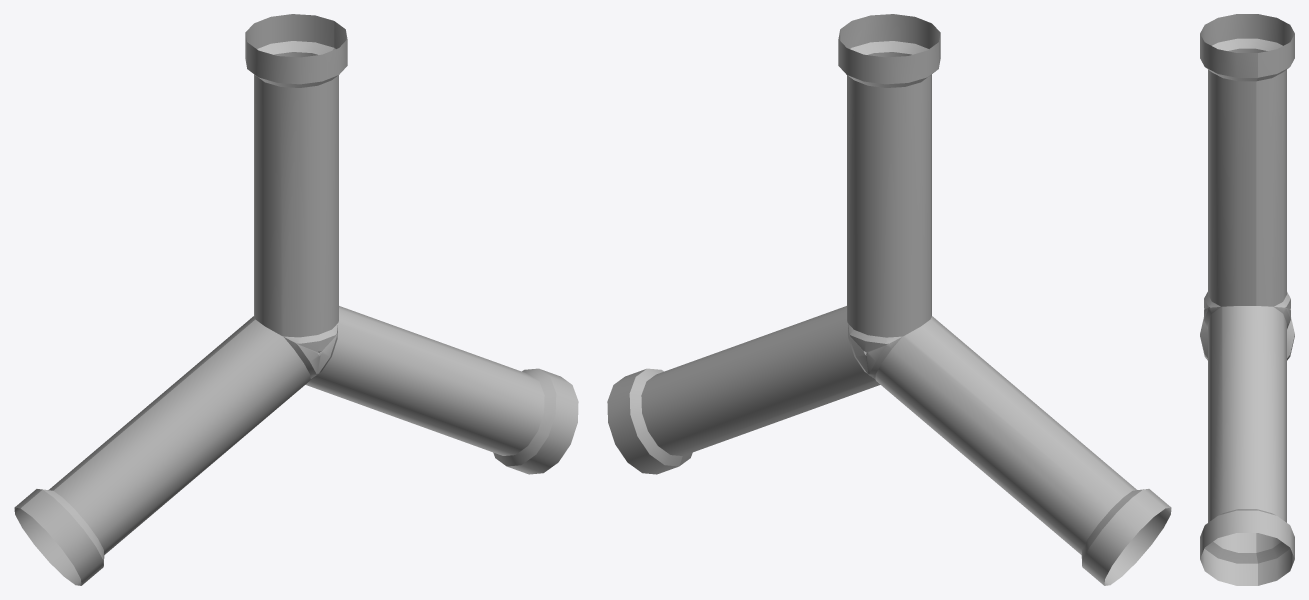
File: KF_SM_Llong3way.fbx
3 views of the same model, side by side, from view 1: azimuth 30°, elevation 25°; view 2: azimuth 150°, elevation 25°; view 3: azimuth 270°, elevation 25° (orthographic). The views are drawn at different scales.
Visible parts, largest first — view 1: KF_SM_Llong3way; view 2: KF_SM_Llong3way; view 3: KF_SM_Llong3way.
Part boxes in pixels (x1,y1,x2,y2): KF_SM_Llong3way: (14, 14, 578, 585); KF_SM_Llong3way: (607, 14, 1171, 585); KF_SM_Llong3way: (1200, 14, 1294, 585).
Size of the model in its own units: 3523 by 3051 by 582.
